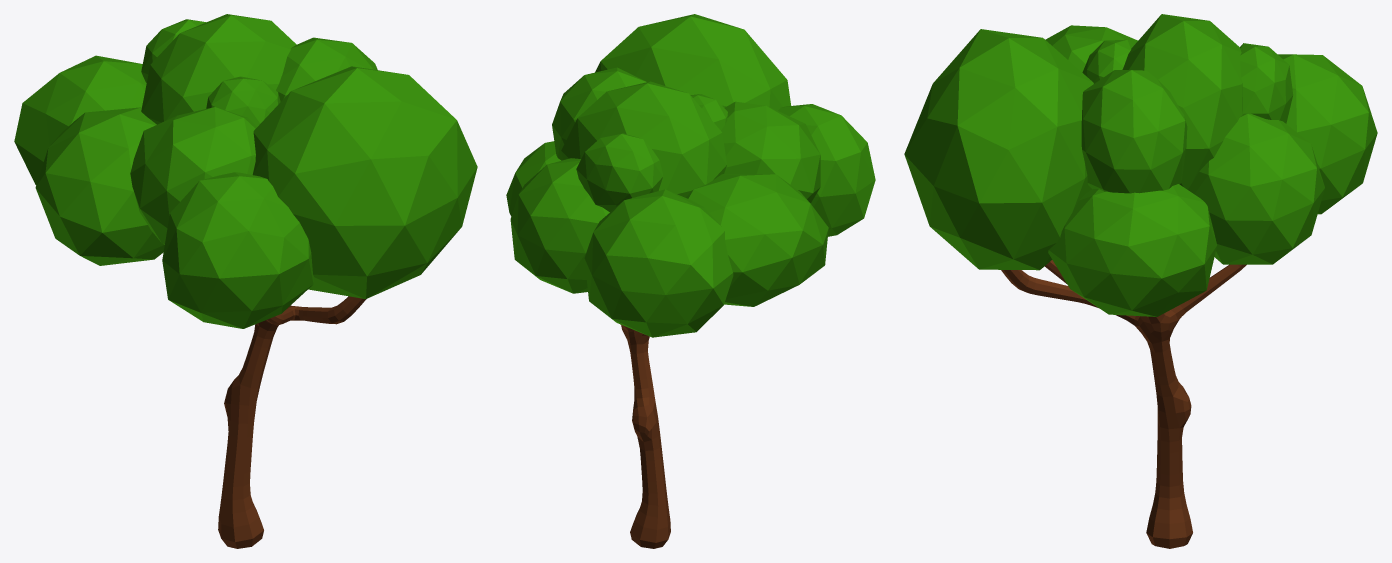
Rendered from tree2.fbx.
3 views of the same model, side by side, from view 1: azimuth 30°, elevation 25°; view 2: azimuth 150°, elevation 25°; view 3: azimuth 270°, elevation 25° (orthographic). The views are drawn at different scales.
Visible parts, largest first — view 1: Icosphere, Plane.001; view 2: Icosphere, Plane.001; view 3: Icosphere, Plane.001.
Part boxes in pixels (x1,y1,x2,y2): Icosphere: (14, 14, 477, 328); Plane.001: (218, 296, 366, 548); Icosphere: (506, 14, 875, 337); Plane.001: (620, 324, 670, 548); Icosphere: (904, 14, 1377, 316); Plane.001: (1001, 260, 1246, 548).
Bounding box in the file's own units: 1013 × 1440 × 1174.
